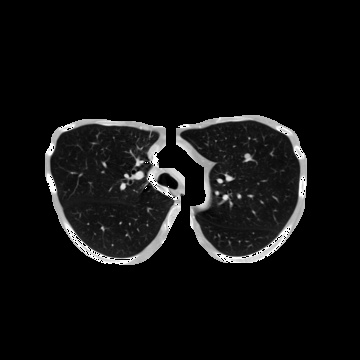PN: (243, 152, 251, 160)
